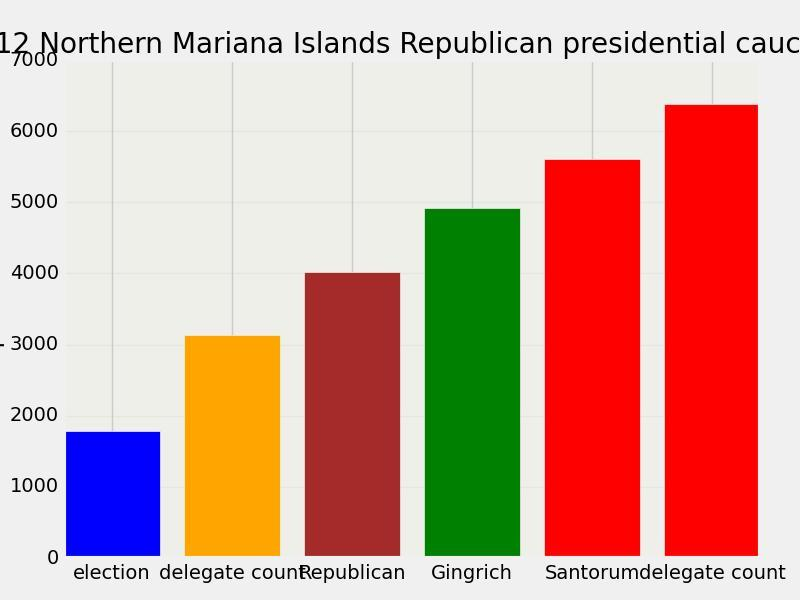axis: (0, 51, 59, 567)
rectangle: (664, 104, 760, 558), (544, 159, 640, 558), (424, 208, 520, 558), (304, 272, 400, 558), (184, 335, 280, 558), (64, 431, 160, 558)
